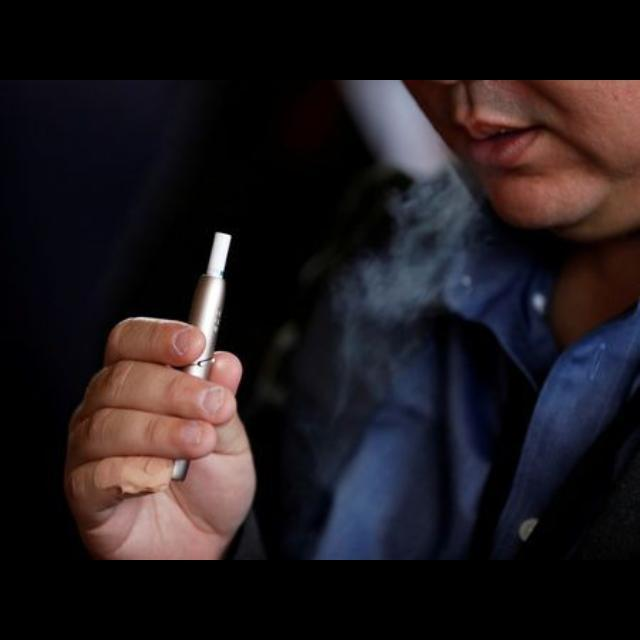rokok: (190, 226, 240, 439)
